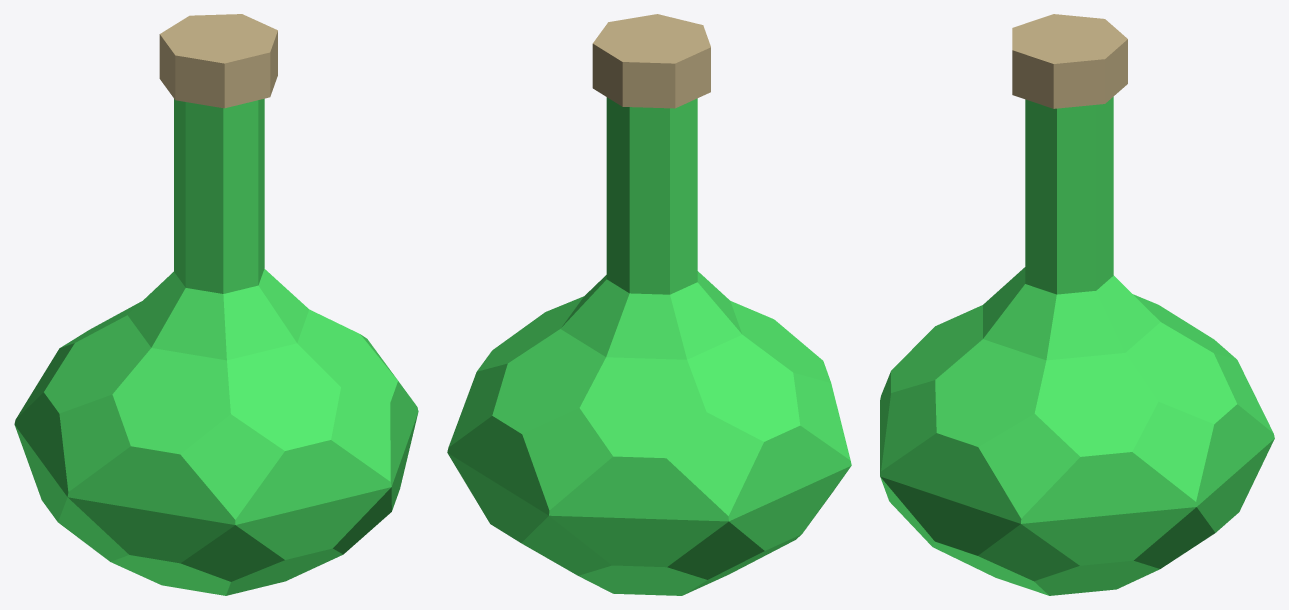
Rendered from Potion_25.fbx.
The picture shows the model from 3 angles, left to right: view 1: azimuth 30°, elevation 25°; view 2: azimuth 150°, elevation 25°; view 3: azimuth 270°, elevation 25°; orthographic projection.
Parts seen in each view (by area): view 1: Potion_25; view 2: Potion_25; view 3: Potion_25.
Boxes of the visible parts, x1,y1,x2,y2 form: Potion_25: (14, 14, 418, 595); Potion_25: (447, 14, 851, 595); Potion_25: (880, 14, 1274, 595).
Bounding box in the file's own units: 13.29 × 18.99 × 12.96.
